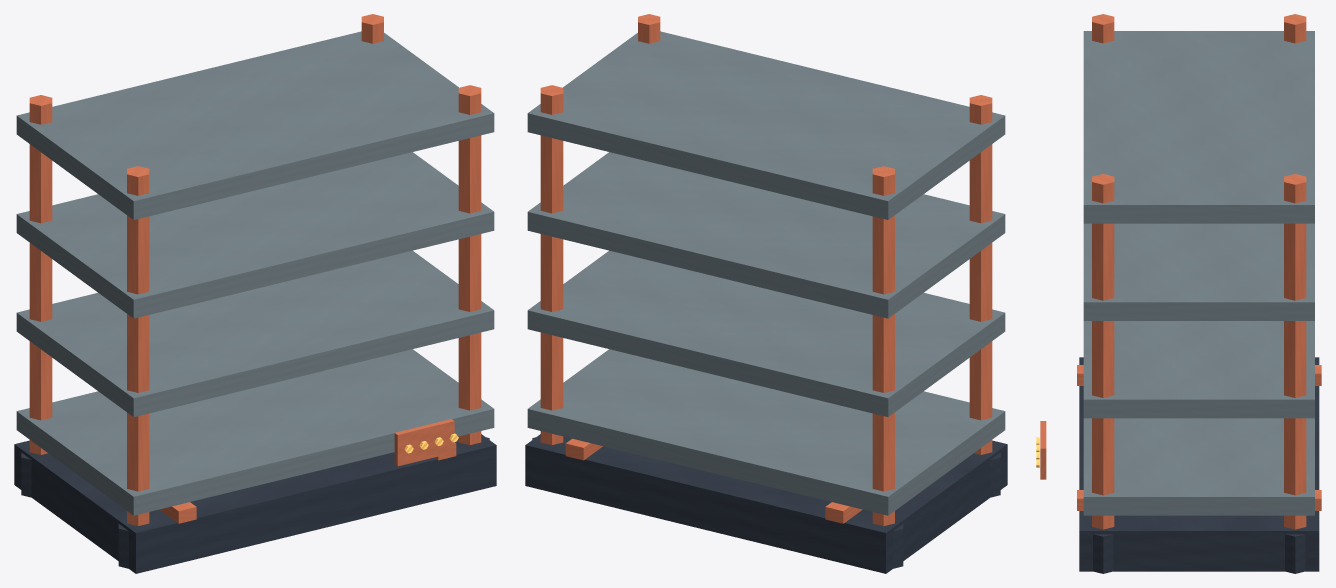
File: atlas100-s028-a06.glb
3 renders of one model, left to right at view 1: azimuth 30°, elevation 25°; view 2: azimuth 150°, elevation 25°; view 3: azimuth 270°, elevation 25°, orthographic.
Visible parts, largest first — view 1: atlas100-s028-a06:part-014, atlas100-s028-a06:part-012, atlas100-s028-a06:part-013, atlas100-s028-a06:part-011, atlas100-s028-a06:part-000, atlas100-s028-a06:part-009, atlas100-s028-a06:part-005, atlas100-s028-a06:part-003, atlas100-s028-a06:part-015, atlas100-s028-a06:part-007; view 2: atlas100-s028-a06:part-014, atlas100-s028-a06:part-011, atlas100-s028-a06:part-012, atlas100-s028-a06:part-013, atlas100-s028-a06:part-000, atlas100-s028-a06:part-007, atlas100-s028-a06:part-003, atlas100-s028-a06:part-005, atlas100-s028-a06:part-009; view 3: atlas100-s028-a06:part-014, atlas100-s028-a06:part-012, atlas100-s028-a06:part-011, atlas100-s028-a06:part-013, atlas100-s028-a06:part-000, atlas100-s028-a06:part-009, atlas100-s028-a06:part-007, atlas100-s028-a06:part-008, atlas100-s028-a06:part-010, atlas100-s028-a06:part-003, atlas100-s028-a06:part-005, atlas100-s028-a06:part-015.
Boxes of the visible parts, x1,y1,x2,y2 form: atlas100-s028-a06:part-014: (16,31,494,219); atlas100-s028-a06:part-012: (16,250,494,416); atlas100-s028-a06:part-013: (16,152,494,318); atlas100-s028-a06:part-011: (16,349,494,515); atlas100-s028-a06:part-000: (14,434,496,573); atlas100-s028-a06:part-009: (458,85,481,444); atlas100-s028-a06:part-005: (127,166,149,525); atlas100-s028-a06:part-003: (29,95,52,454); atlas100-s028-a06:part-015: (394,419,454,466); atlas100-s028-a06:part-007: (361,14,383,43); atlas100-s028-a06:part-014: (527,31,1005,219); atlas100-s028-a06:part-011: (527,349,1005,515); atlas100-s028-a06:part-012: (527,250,1005,416); atlas100-s028-a06:part-013: (527,152,1005,318); atlas100-s028-a06:part-000: (525,434,1007,573); atlas100-s028-a06:part-007: (540,85,563,444); atlas100-s028-a06:part-003: (872,166,894,525); atlas100-s028-a06:part-005: (969,95,992,454); atlas100-s028-a06:part-009: (638,14,660,43); atlas100-s028-a06:part-014: (1083,31,1314,223); atlas100-s028-a06:part-012: (1083,321,1314,418); atlas100-s028-a06:part-011: (1083,418,1314,515); atlas100-s028-a06:part-013: (1083,223,1314,320); atlas100-s028-a06:part-000: (1079,357,1319,571); atlas100-s028-a06:part-009: (1092,174,1114,529); atlas100-s028-a06:part-007: (1284,174,1306,529); atlas100-s028-a06:part-008: (1285,534,1305,573); atlas100-s028-a06:part-010: (1093,534,1113,573); atlas100-s028-a06:part-003: (1284,14,1306,43); atlas100-s028-a06:part-005: (1092,14,1114,43); atlas100-s028-a06:part-015: (1040,421,1046,479).
Bounding box in the file's own units: 2.47 × 2.48 × 1.66.
4 materials, 4 textured.
